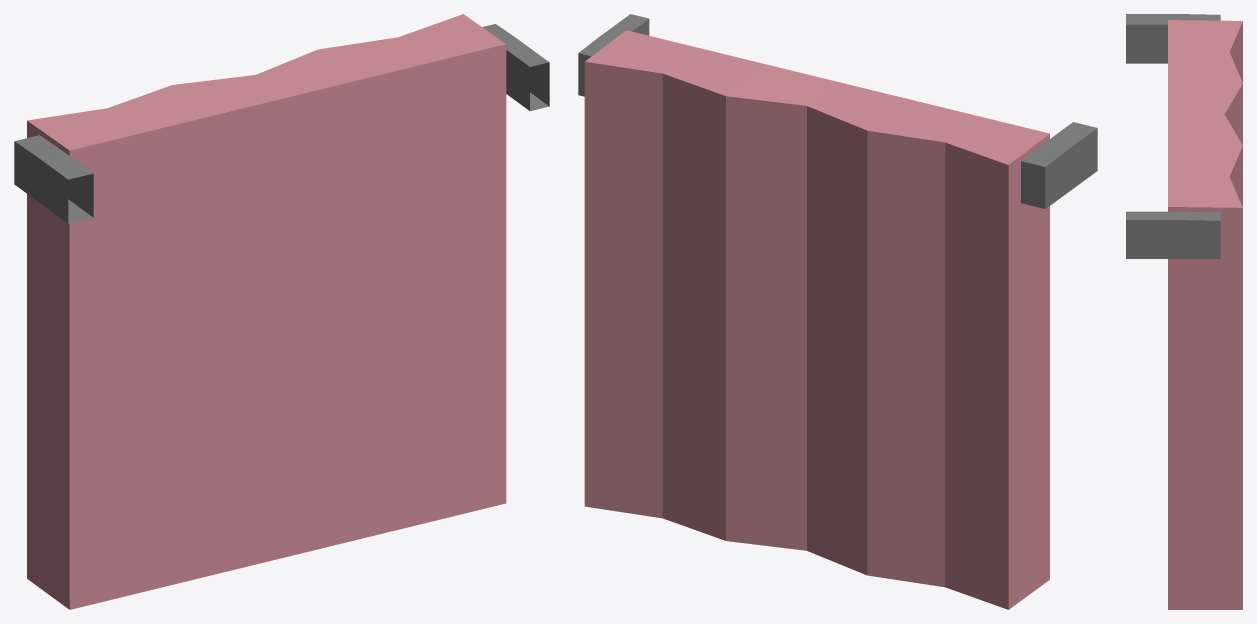
Rendered from pyyheteline_pink.FBX.
3 views of the same model, side by side, from view 1: azimuth 30°, elevation 25°; view 2: azimuth 150°, elevation 25°; view 3: azimuth 270°, elevation 25° (orthographic). The views are drawn at different scales.
Parts seen in each view (by area): view 1: pyyheteline_pink; view 2: pyyheteline_pink; view 3: pyyheteline_pink.
Part boxes in pixels (bbox=[...]): pyyheteline_pink: bbox=[14, 14, 549, 609]; pyyheteline_pink: bbox=[578, 14, 1097, 609]; pyyheteline_pink: bbox=[1126, 14, 1242, 609].
Bounding box in the file's own units: 94.46 × 86.16 × 22.64.
